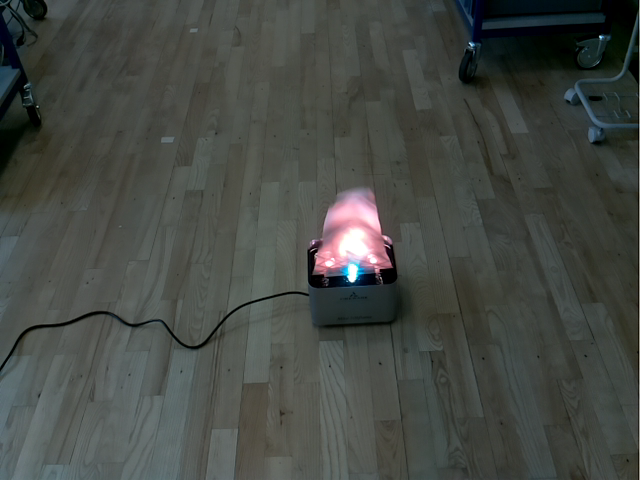fire: (310, 184, 394, 277)
